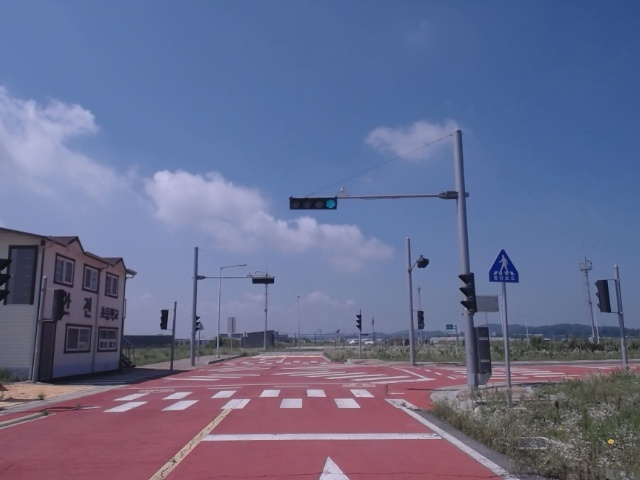straight_green_4: (287, 198, 339, 210)
